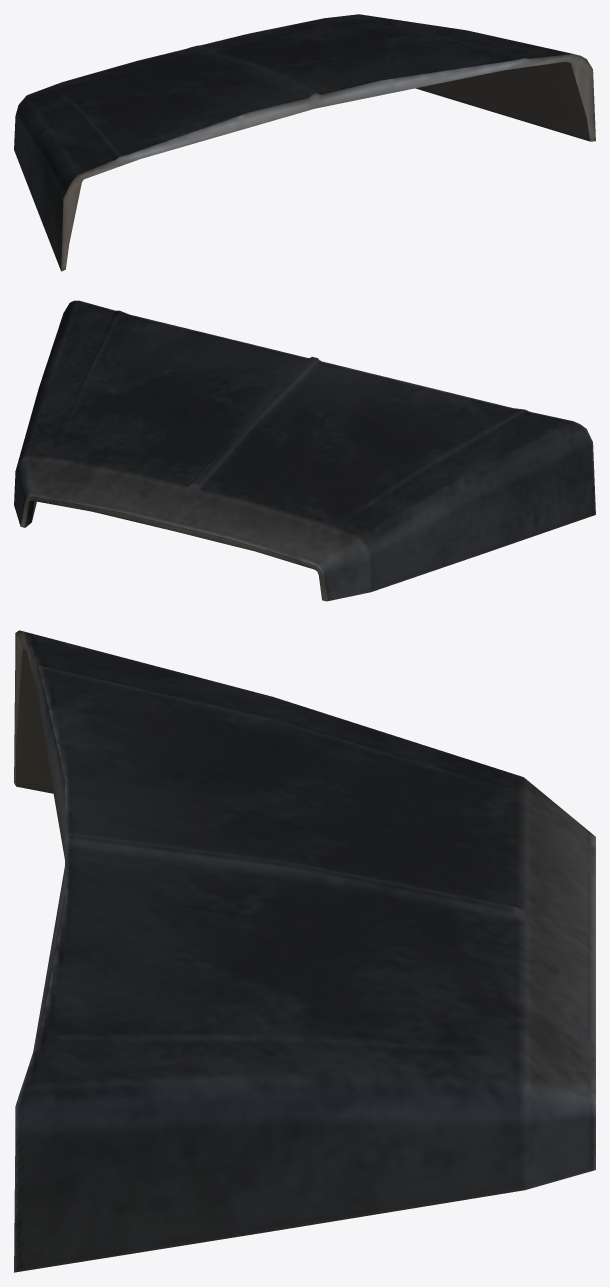
Rendered from F700Hood_WorldItem.fbx.
The picture shows the model from 3 angles, top to bottom: view 1: azimuth 30°, elevation 25°; view 2: azimuth 150°, elevation 25°; view 3: azimuth 270°, elevation 25°; orthographic projection. The views are drawn at different scales.
Parts seen in each view (by area): view 1: Hood_obj_Plane.018; view 2: Hood_obj_Plane.018; view 3: Hood_obj_Plane.018.
Part boxes in pixels (x1,y1,x2,y2): Hood_obj_Plane.018: (14, 14, 595, 271); Hood_obj_Plane.018: (14, 300, 595, 601); Hood_obj_Plane.018: (14, 630, 595, 1272).
Size of the model in its own units: 2.68 by 0.495 by 1.34.
